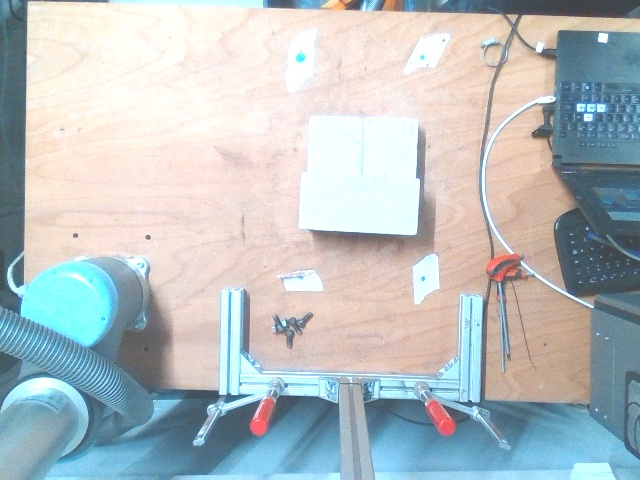brick: (299, 170, 420, 235)
